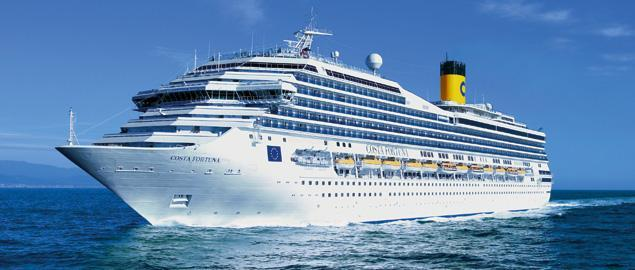youlun: (54, 28, 549, 228)
